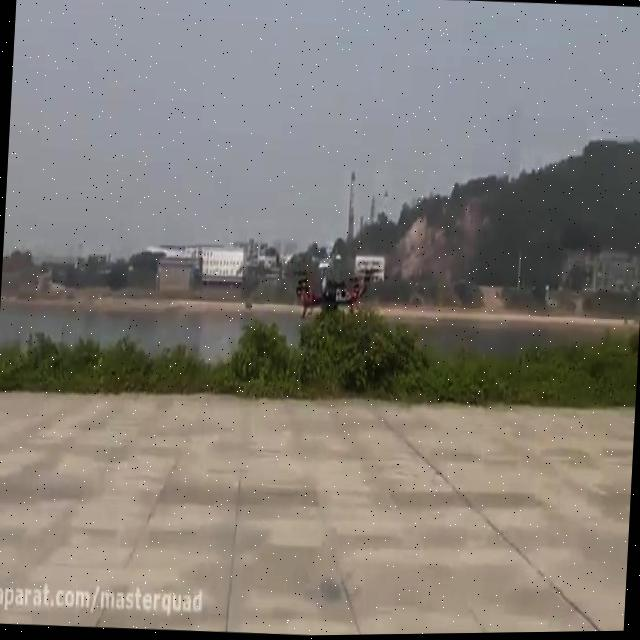drone: (288, 248, 376, 326)
